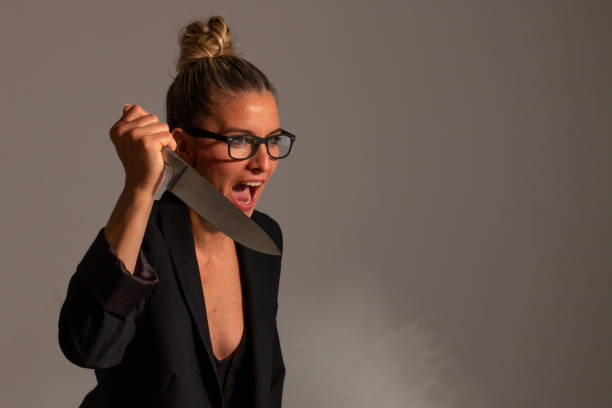knife: (152, 147, 285, 257)
